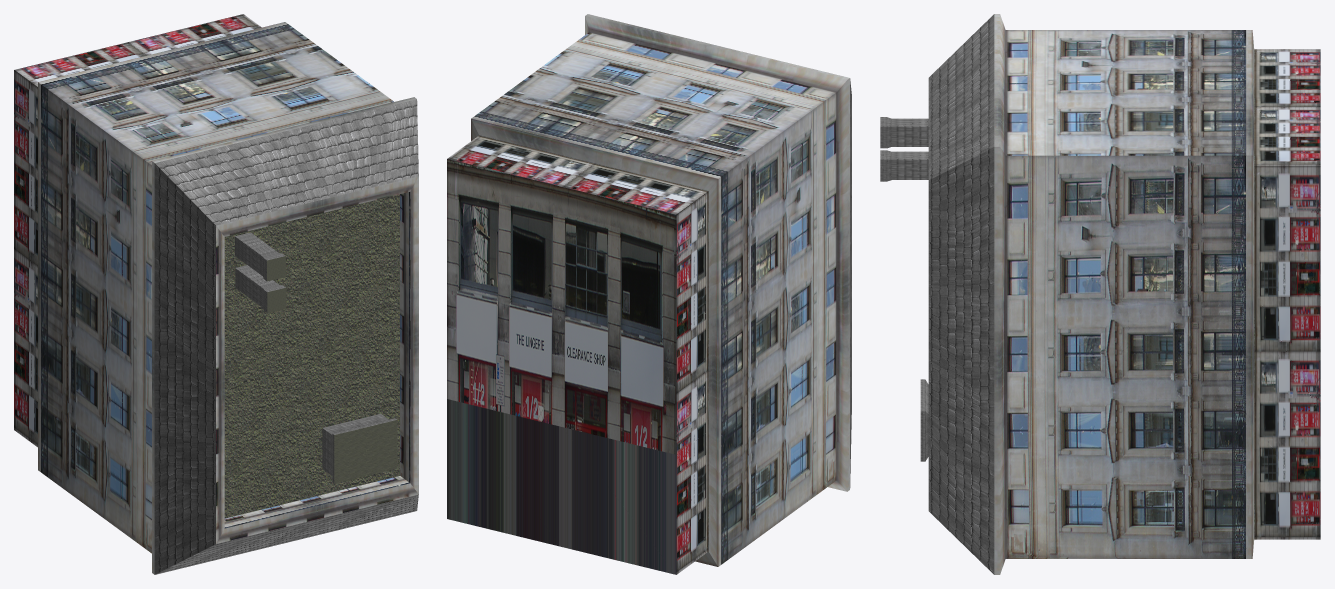
File: residential_building_04.obj
The picture shows the model from 3 angles, left to right: view 1: azimuth 30°, elevation 25°; view 2: azimuth 150°, elevation 25°; view 3: azimuth 270°, elevation 25°; orthographic projection. The views are drawn at different scales.
Visible parts, largest first — view 1: Shops_D_01; view 2: Shops_D_01; view 3: Shops_D_01.
Part boxes in pixels (x1,y1,x2,y2): Shops_D_01: (14,14,418,574); Shops_D_01: (447,14,851,574); Shops_D_01: (880,14,1320,574).
Bounding box in the file's own units: 33.96 × 50.94 × 47.53.
Materials: 5 (5 with a texture image).
